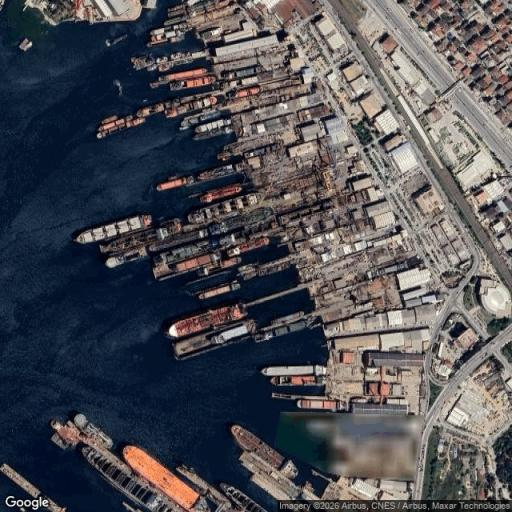ship: (122, 445, 200, 510), (83, 447, 162, 510), (229, 426, 301, 478), (174, 318, 258, 355), (100, 217, 183, 253), (168, 303, 250, 338), (74, 214, 152, 245), (186, 193, 264, 224), (154, 240, 219, 266), (74, 413, 114, 449), (220, 483, 267, 511), (255, 320, 307, 342), (96, 117, 146, 139), (165, 97, 218, 117), (105, 245, 149, 269), (174, 252, 221, 273), (226, 236, 270, 257), (137, 97, 180, 117), (198, 258, 242, 277), (198, 282, 242, 300), (53, 420, 81, 447), (170, 75, 217, 91), (200, 186, 243, 203), (193, 126, 233, 141), (196, 164, 233, 180), (156, 176, 195, 191), (98, 115, 134, 131), (181, 112, 221, 126), (158, 69, 207, 80), (260, 366, 313, 375), (271, 311, 304, 325), (295, 400, 345, 409), (270, 376, 314, 386), (49, 432, 71, 451), (106, 35, 130, 46), (149, 26, 169, 36), (239, 263, 260, 272), (167, 9, 185, 18), (148, 39, 168, 47), (165, 17, 186, 24), (102, 115, 118, 124), (167, 4, 184, 11), (168, 37, 184, 41), (165, 32, 176, 37)
